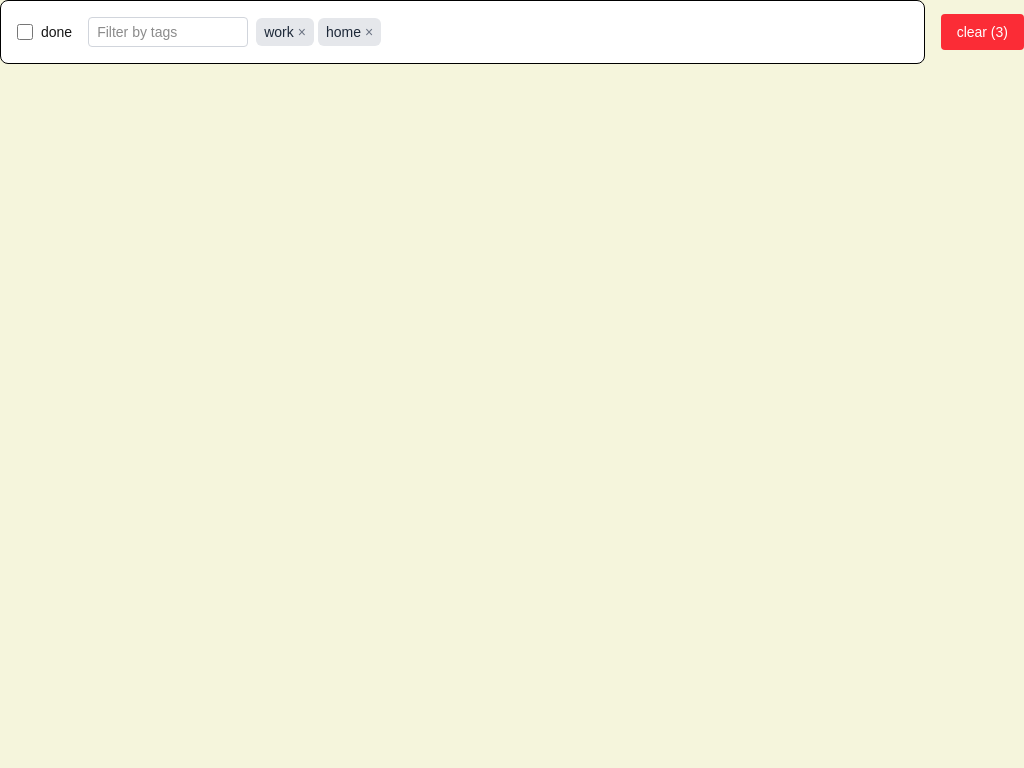
Test: FilterSection Component › shows confirmation dialog when clear is clicked with deleted items
Click the button "clear (3)".
click(982, 32)  # box [941, 14, 1023, 50]
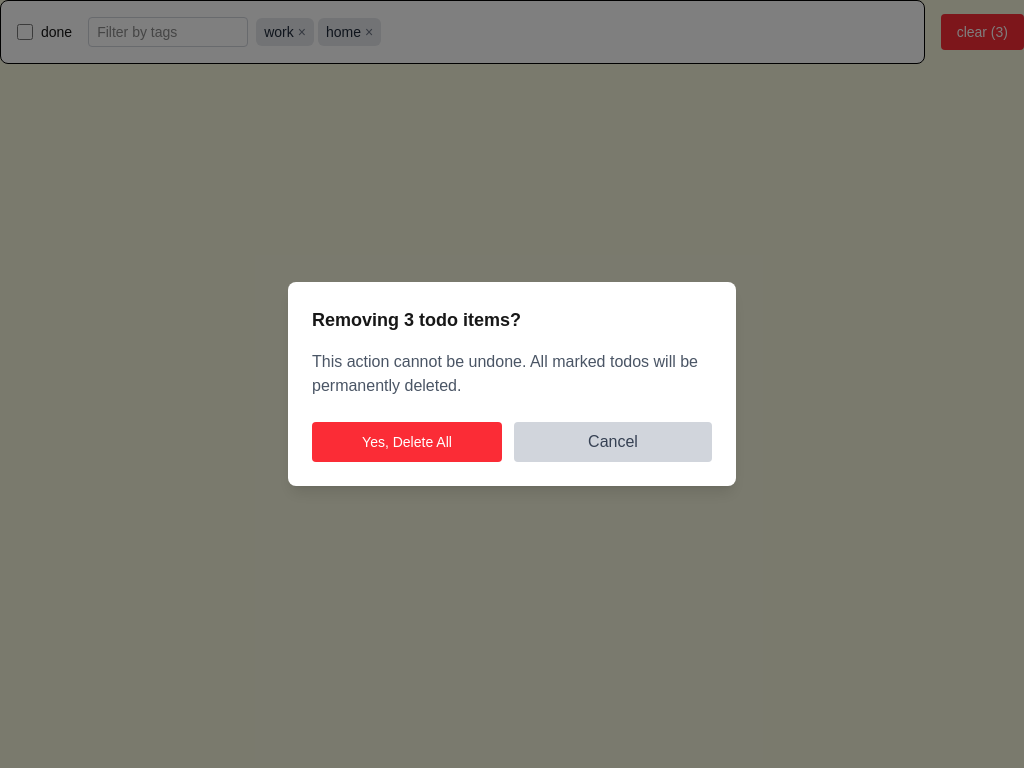
Expected: the heading "Removing 3 todo items?" is shown, [312, 310, 521, 330]
Expected: the button "Yes, Delete All" is shown, [312, 422, 502, 462]
Expected: the button "Cancel" is shown, [514, 422, 712, 462]
